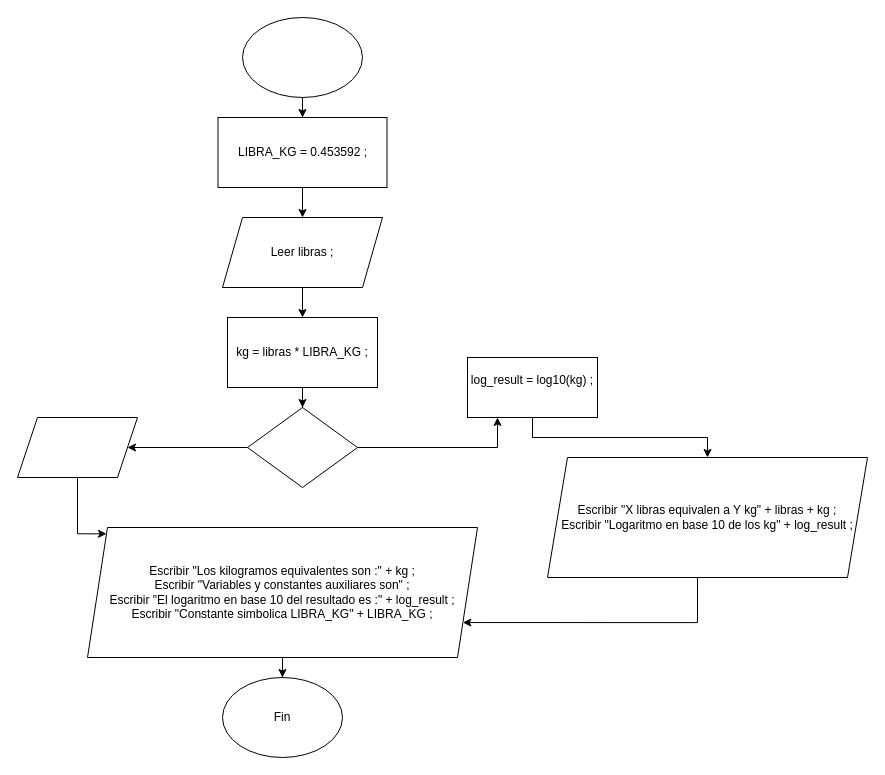
This 885x775 diagram has some shape labels left out. The shapes that lost their labels are listed below. From the top down, each one's centre as x and y in pixels, then its label:
[302,57]: Inicio
[77,447]: Escribir "El peso debe ser mayor a cero." ;
[302,447]: ¿(kg > 0)?
